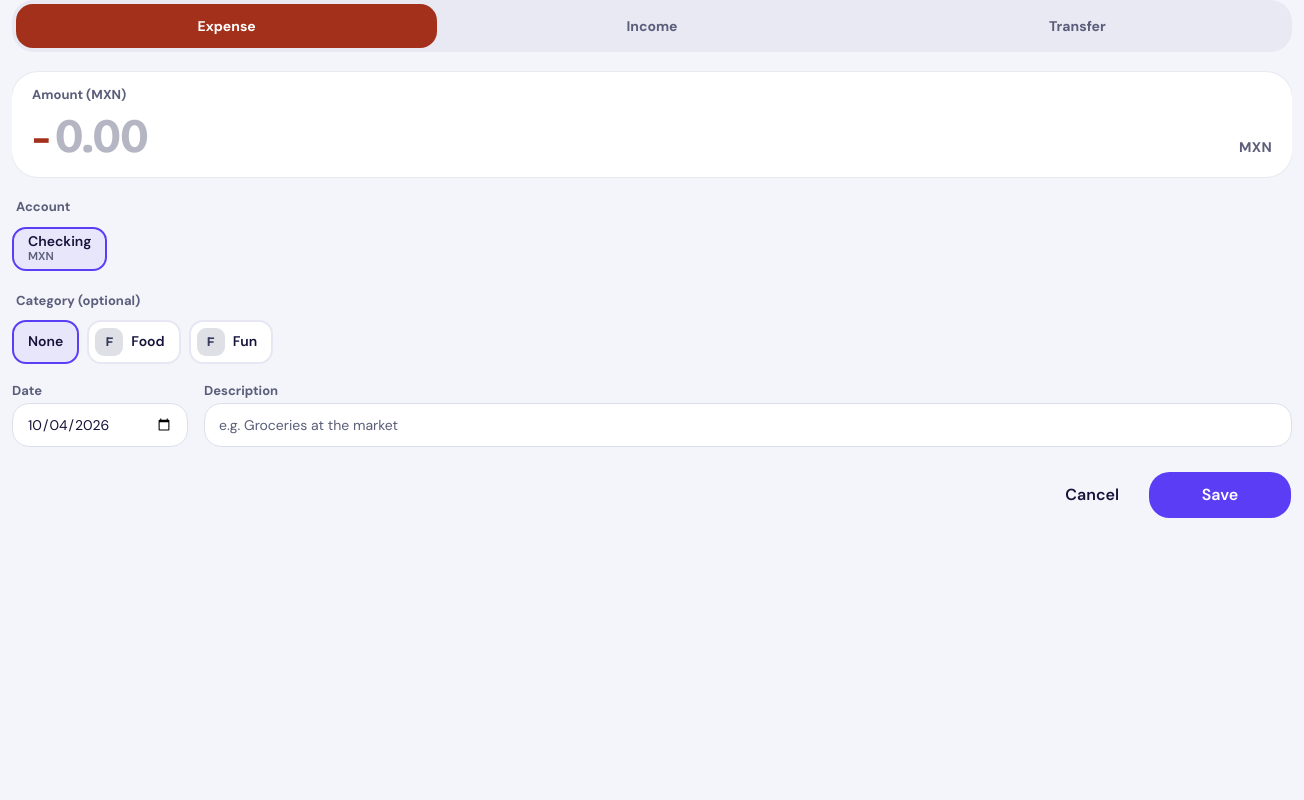
Scenario: budget hint in the transaction form › warns when the expense leaves the category near or over budget
Type "30" into the field labelled "Amount (MXN)" at [645, 136], box x1=55 y1=107 x2=1235 y2=165
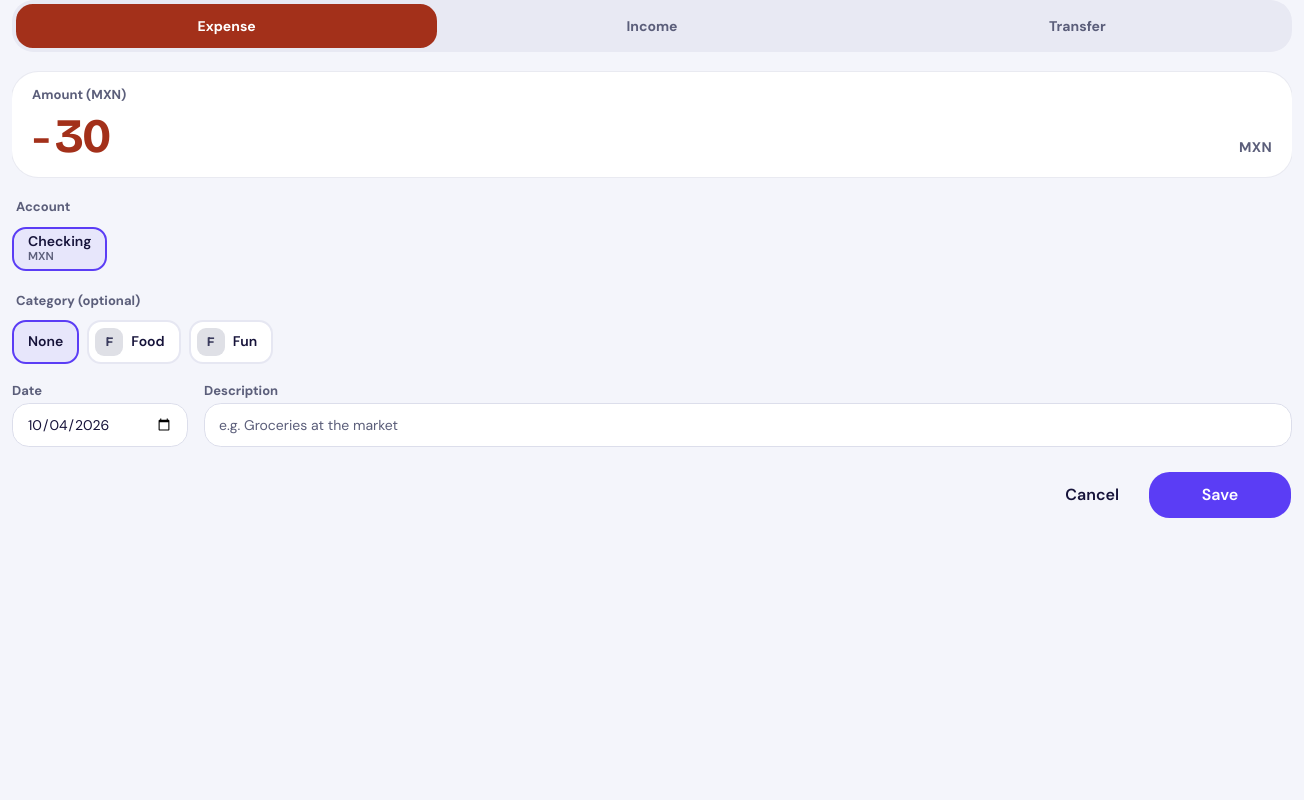
Click the radio button labelled "Food" at [134, 342], box x1=87 y1=320 x2=181 y2=364
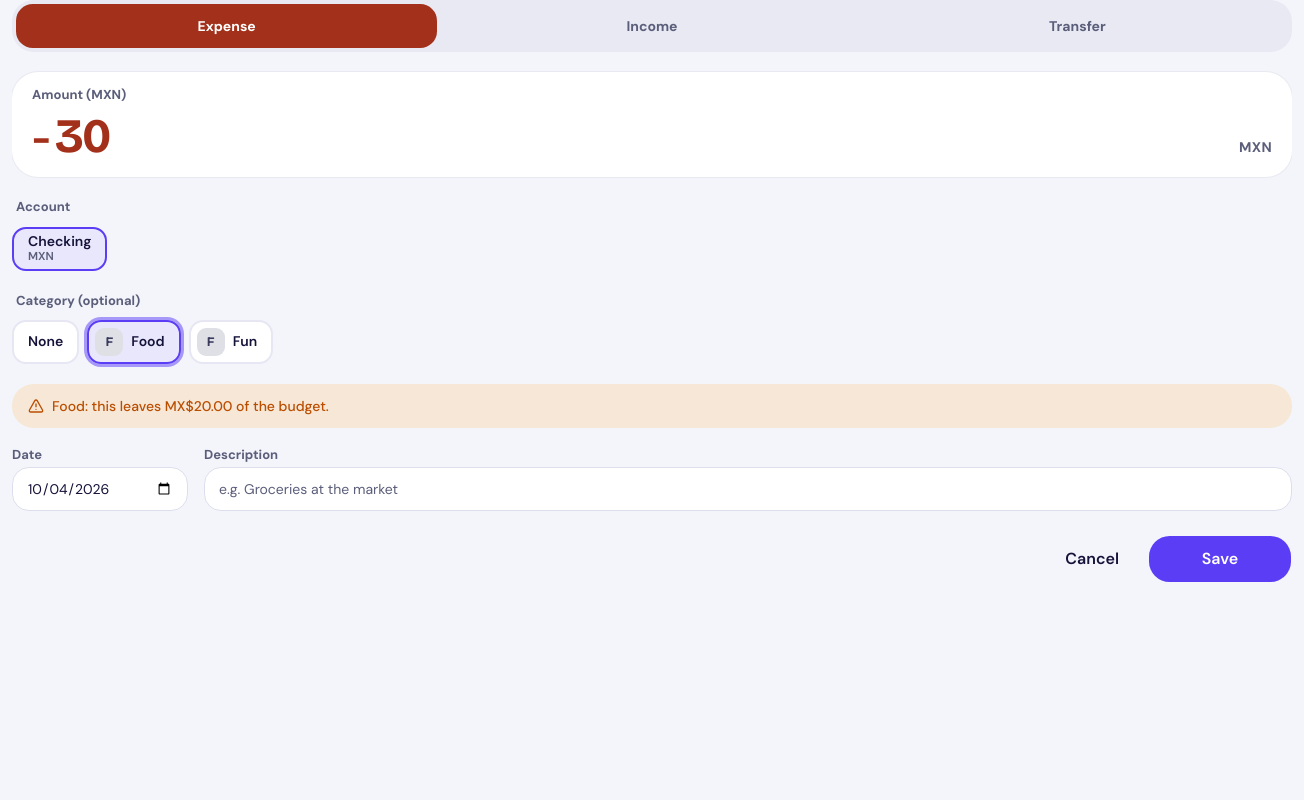
Result: the message with test id "budget-hint" reads "Food: this leaves MX$20.00 of the budget." at x1=52 y1=397 x2=329 y2=415
